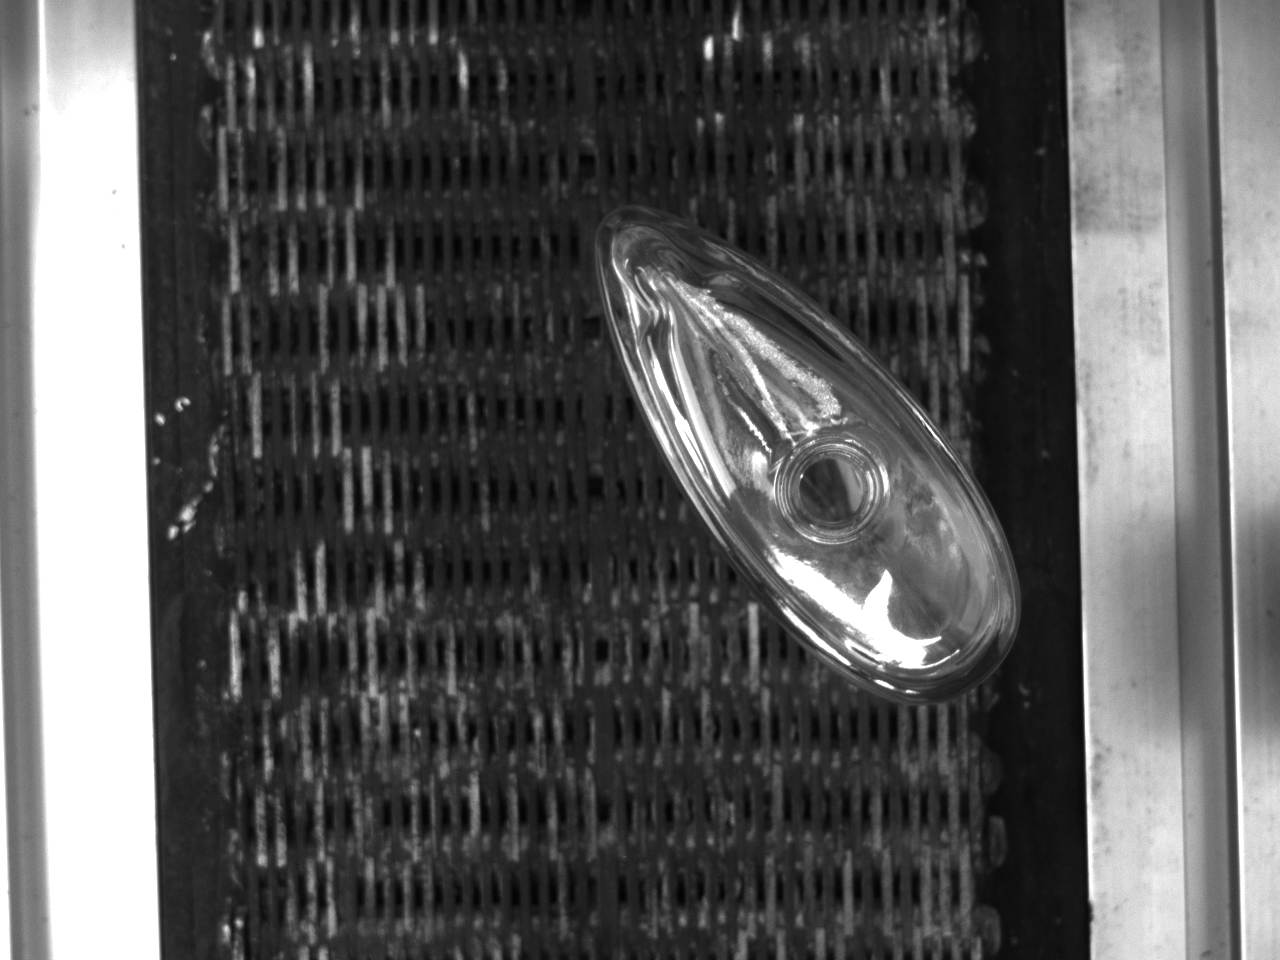bottleneck: (777, 436, 889, 546)
